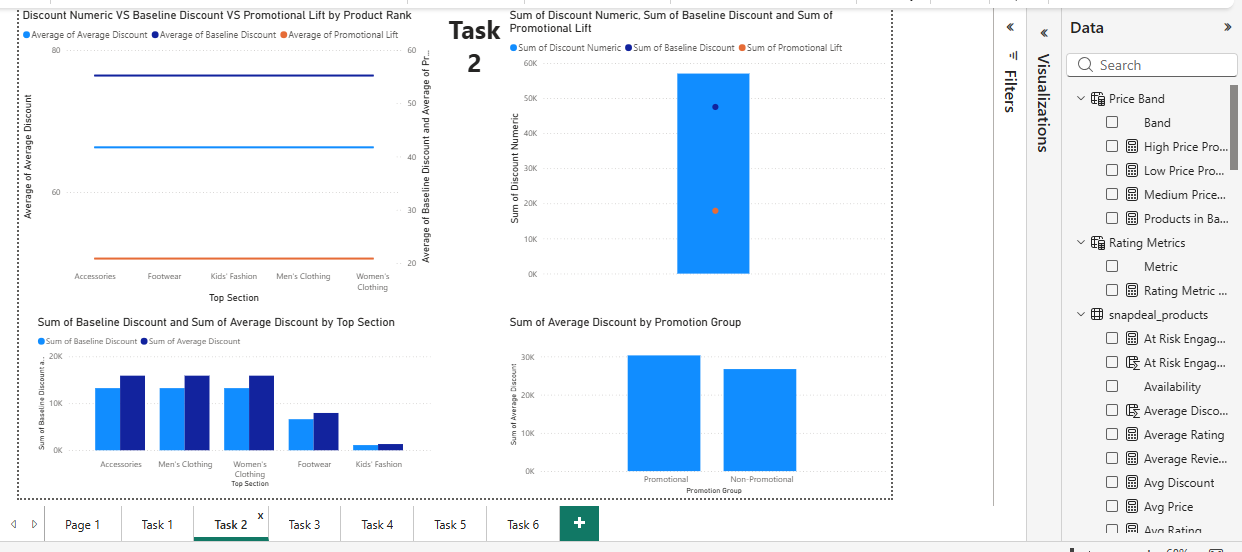

The dashboard page shown, as its layout file describes it:
{"tool":"powerbi","page":{"name":"Task 2","canvas":[1280,720],"ordinal":2},"visuals":[{"type":"lineChart","title":"Discount Numeric VS Baseline Discount VS Promotional Lift by Product Rank","fields":{"Category":["snapdeal_products.Top Section"],"Y":["Avg(snapdeal_products.Average Discount)"],"Y2":["Avg(snapdeal_products.Baseline Discount)","Avg(snapdeal_products.Promotional Lift)"]},"box":[0,0,609.7,439.1],"z":0},{"type":"lineClusteredColumnComboChart","fields":{"Y":["Sum(snapdeal_products.Discount Numeric)"],"Y2":["Sum(snapdeal_products.Baseline Discount)","Sum(snapdeal_products.Promotional Lift)"]},"box":[715.7,0,564.3,404.6],"z":1000},{"type":"clusteredColumnChart","fields":{"Category":["snapdeal_products.Top Section"],"Y":["Sum(snapdeal_products.Baseline Discount)","Sum(snapdeal_products.Average Discount)"]},"box":[22,451.4,587.7,258.8],"z":2000},{"type":"clusteredColumnChart","fields":{"Category":["snapdeal_products.Promotion Group"],"Y":["Sum(snapdeal_products.Average Discount)"]},"box":[715.7,451.4,564.3,268.4],"z":3000},{"type":"textbox","box":[623,0,92.6,157.2],"z":3001}]}

Visuals, with their boxes on the page's 1280x720 design canvas (x1, y1, x2, y2). These are canvas units, not pixel positions in the 1242x552 screenshot, which may show the page scaled, cropped or inside an application window:
"Discount Numeric VS Baseline Discount VS Promotional Lift by Product Rank" lineChart: {"x1": 0, "y1": 0, "x2": 610, "y2": 439}
lineClusteredColumnComboChart - Sum(snapdeal_products.Discount Numeric) x Sum(snapdeal_products.Baseline Discount): {"x1": 716, "y1": 0, "x2": 1280, "y2": 405}
clusteredColumnChart - snapdeal_products.Top Section x Sum(snapdeal_products.Baseline Discount): {"x1": 22, "y1": 451, "x2": 610, "y2": 710}
clusteredColumnChart - snapdeal_products.Promotion Group x Sum(snapdeal_products.Average Discount): {"x1": 716, "y1": 451, "x2": 1280, "y2": 720}
textbox: {"x1": 623, "y1": 0, "x2": 716, "y2": 157}
